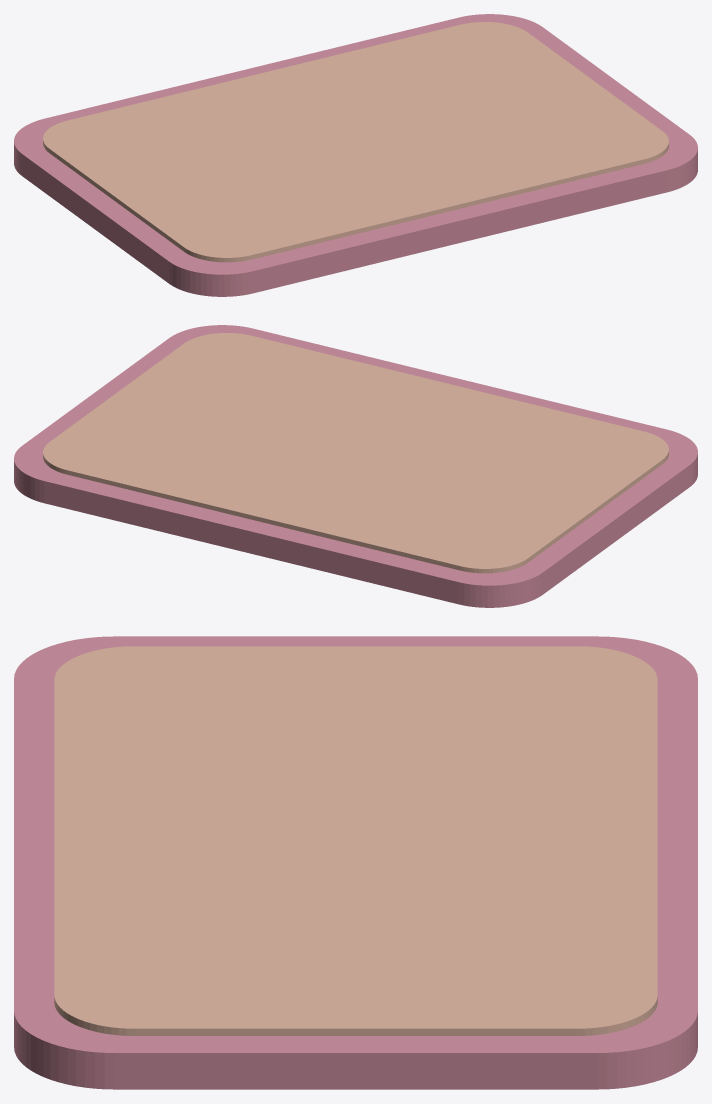
File: compact-lid.glb
The picture shows the model from 3 angles, top to bottom: view 1: azimuth 30°, elevation 25°; view 2: azimuth 150°, elevation 25°; view 3: azimuth 270°, elevation 25°; orthographic projection. The views are drawn at different scales.
Parts seen in each view (by area): view 1: Mirror backing rim, Compact lid; view 2: Mirror backing rim, Compact lid; view 3: Mirror backing rim, Compact lid.
Boxes of the visible parts, x1,y1,x2,y2 form: Mirror backing rim: (43,22,668,262); Compact lid: (14,14,697,296); Mirror backing rim: (43,333,668,573); Compact lid: (14,325,697,607); Mirror backing rim: (54,646,657,1035); Compact lid: (14,636,697,1089).
Size of the model in its own units: 98 by 4.8 by 68.
